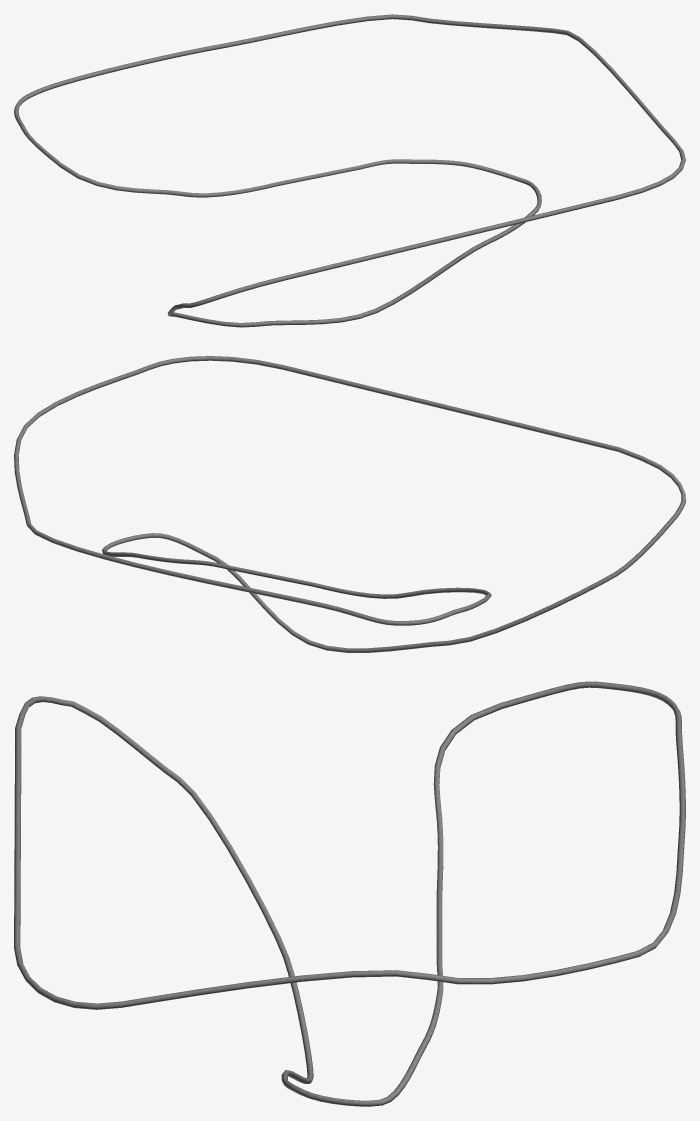
The model's file is MOD_Rail_MA_2.FBX.
The picture shows the model from 3 angles, top to bottom: view 1: azimuth 30°, elevation 25°; view 2: azimuth 150°, elevation 25°; view 3: azimuth 270°, elevation 25°; orthographic projection. The views are drawn at different scales.
Visible parts, largest first — view 1: MOD_Rail_MA_2; view 2: MOD_Rail_MA_2; view 3: MOD_Rail_MA_2.
Boxes of the visible parts, bbox=[...] form: MOD_Rail_MA_2: bbox=[14, 14, 685, 327]; MOD_Rail_MA_2: bbox=[14, 356, 685, 652]; MOD_Rail_MA_2: bbox=[14, 681, 685, 1106].
Bounding box in the file's own units: 48.41 × 17.47 × 39.98.
